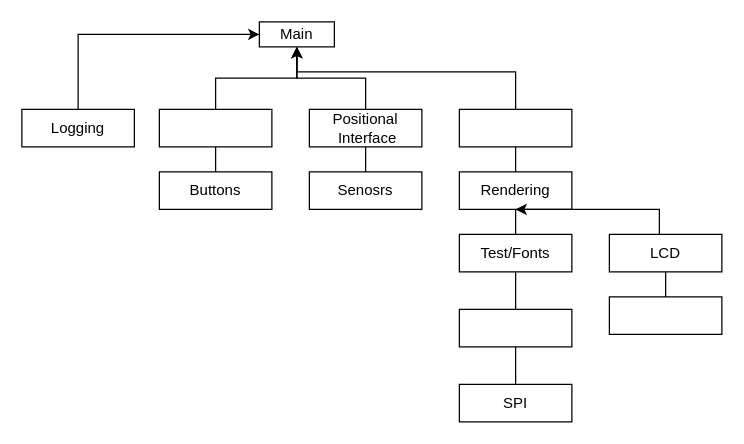
The diagram is 744 pixels wide and 444 high, and some of its shapes have lost their labels. Each missing label, with the box of its shape:
Display: (458, 108, 572, 147)
Flash: (458, 308, 572, 347)
Parallel Interface: (608, 296, 722, 334)
User Commands: (158, 108, 272, 147)
